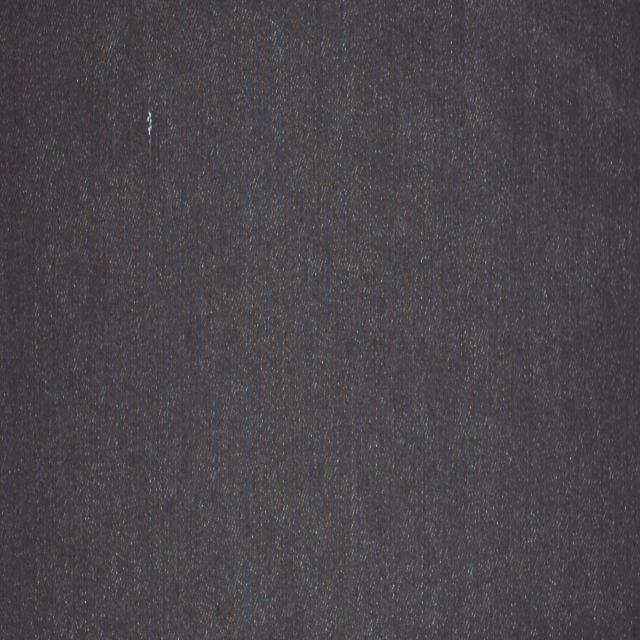Knot: (146, 110, 153, 142)
